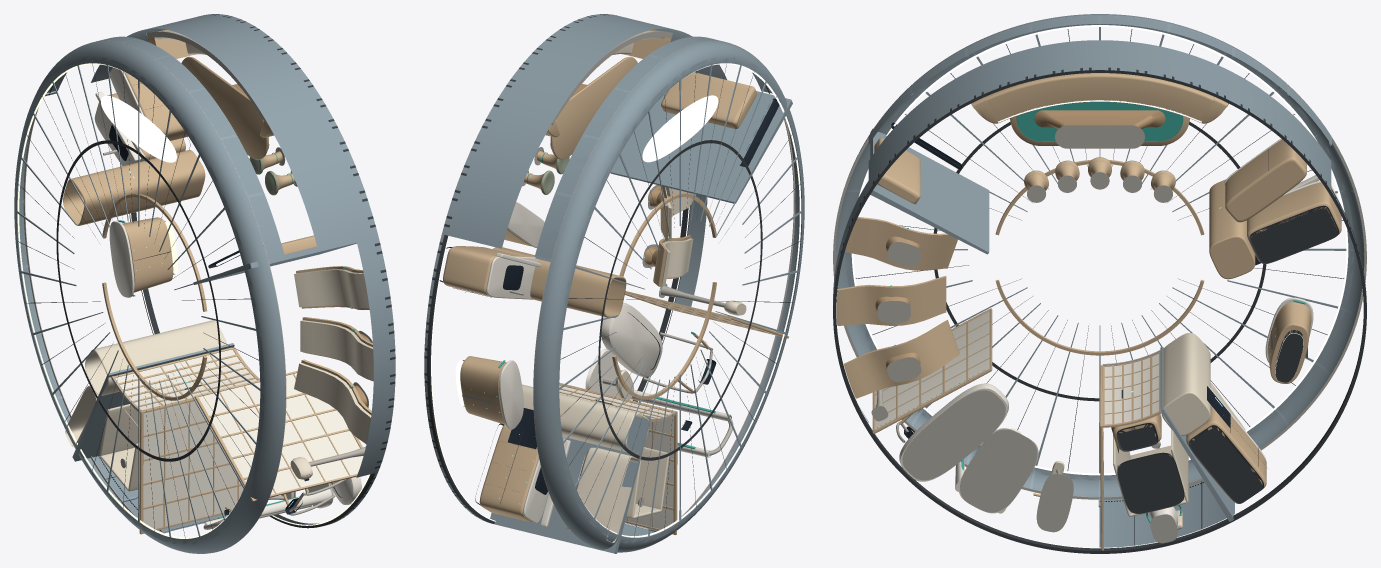
Rendered from interior_L2.glb.
The picture shows the model from 3 angles, left to right: view 1: azimuth 30°, elevation 25°; view 2: azimuth 150°, elevation 25°; view 3: azimuth 270°, elevation 25°; orthographic projection. The views are drawn at different scales.
Parts seen in each view (by area): view 1: dry:L2_D3_lining, dry:L2_H0_walls_door, dry:L2_E4_shoji_screen, dry:L2_G2_water_run, dry:L2_G1_cook_run, dry:L2_G3_prep_island, dry:L2_D1_lighting, dry:L2_O1_lounger_3, dry:L2_W1_table, dry:L2_O1_lounger_2, dry:L2_O1_lounger_1, dry:L2_H2_shower (+9 smaller); view 2: dry:L2_D3_lining, dry:L2_G1_cook_run, dry:L2_W6_living_niche, dry:L2_G2_water_run, dry:L2_D1_lighting, dry:L2_G3_prep_island, dry:L2_E1_treadmill, dry:L2_H0_walls_door, dry:L2_W1_table, dry:L2_E2_resistance, dry:L2_H2_shower, dry:L2_O1_lounger_3 (+9 smaller); view 3: dry:L2_D3_lining, dry:L2_G1_cook_run, dry:L2_G2_water_run, dry:L2_W2_banquette, dry:L2_W6_living_niche, dry:L2_W1_table, dry:L2_E1_treadmill, dry:L2_E4_shoji_screen, dry:L2_E2_resistance, dry:L2_H2_shower, dry:L2_O1_lounger_3, dry:L2_H0_walls_door (+11 smaller).
Part boxes in pixels (x1,y1,x2,y2): dry:L2_D3_lining: (14,14,395,553); dry:L2_H0_walls_door: (111,347,259,534); dry:L2_E4_shoji_screen: (194,371,363,501); dry:L2_G2_water_run: (63,91,205,225); dry:L2_G1_cook_run: (65,320,226,446); dry:L2_G3_prep_island: (109,217,177,297); dry:L2_D1_lighting: (17,63,370,538); dry:L2_O1_lounger_3: (294,359,371,444); dry:L2_W1_table: (181,56,268,160); dry:L2_O1_lounger_2: (300,317,373,381); dry:L2_O1_lounger_1: (294,266,369,309); dry:L2_H2_shower: (100,404,140,491); dry:L2_D3_lining: (424,14,804,553); dry:L2_G1_cook_run: (475,384,649,542); dry:L2_W6_living_niche: (610,72,792,203); dry:L2_G2_water_run: (439,246,626,317); dry:L2_D1_lighting: (431,63,801,537); dry:L2_G3_prep_island: (455,356,523,429); dry:L2_E1_treadmill: (601,302,716,393); dry:L2_H0_walls_door: (559,382,677,534); dry:L2_W1_table: (550,56,637,159); dry:L2_E2_resistance: (585,348,733,457); dry:L2_H2_shower: (626,447,669,518); dry:L2_O1_lounger_3: (642,235,693,286); dry:L2_D3_lining: (833,14,1366,553); dry:L2_G1_cook_run: (1161,333,1266,503); dry:L2_G2_water_run: (1209,175,1341,279); dry:L2_W2_banquette: (971,73,1228,123); dry:L2_W6_living_niche: (870,128,989,254); dry:L2_W1_table: (1010,102,1189,148); dry:L2_E1_treadmill: (896,383,1008,481); dry:L2_E4_shoji_screen: (872,308,992,433); dry:L2_E2_resistance: (955,428,1038,513); dry:L2_H2_shower: (1113,429,1188,516); dry:L2_O1_lounger_3: (843,320,959,398); dry:L2_H0_walls_door: (1100,350,1161,550).
Size of the model in its own units: 2.3 by 8.3 by 8.3.
